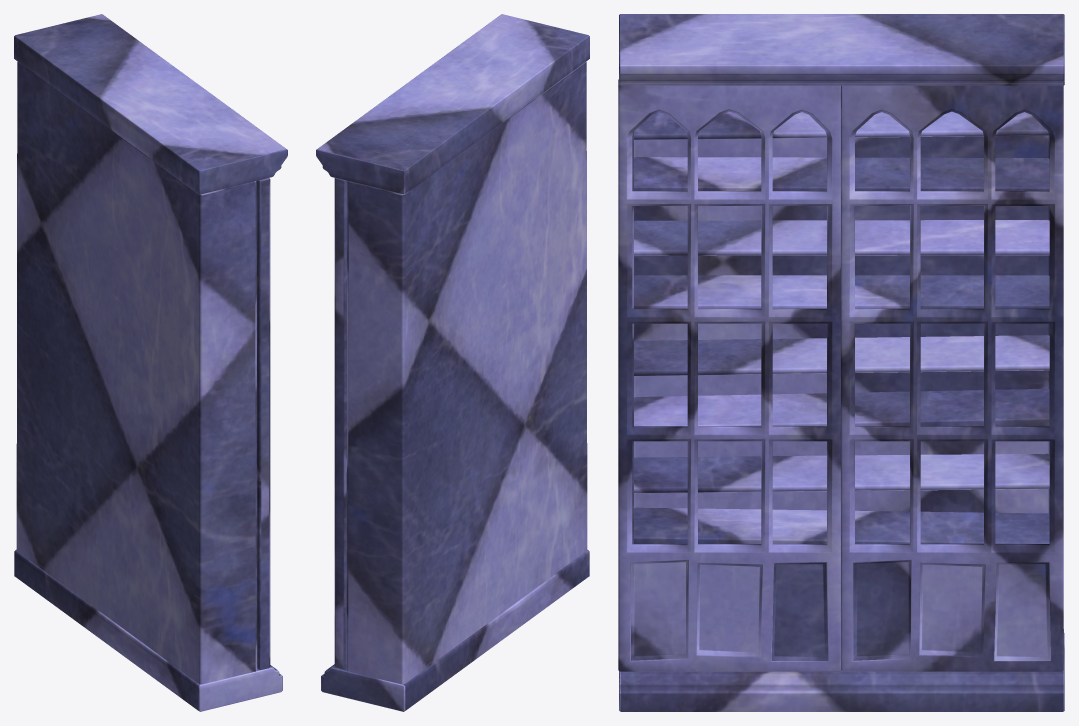
The model's file is hub_bookshelf.fbx.
3 renders of one model, left to right at view 1: azimuth 30°, elevation 25°; view 2: azimuth 150°, elevation 25°; view 3: azimuth 270°, elevation 25°, orthographic. The views are drawn at different scales.
Visible parts, largest first — view 1: library_shelf, libary_shelf_door_01; view 2: library_shelf, libary_shelf_door_02; view 3: library_shelf, libary_shelf_door_01, libary_shelf_door_02.
Part boxes in pixels (left/top/right/bottom): library_shelf: left=14, top=14, right=287, bottom=711; libary_shelf_door_01: left=256, top=178, right=270, bottom=670; library_shelf: left=316, top=14, right=589, bottom=711; libary_shelf_door_02: left=334, top=178, right=347, bottom=669; library_shelf: left=619, top=14, right=1064, bottom=711; libary_shelf_door_01: left=618, top=79, right=840, bottom=671; libary_shelf_door_02: left=841, top=85, right=1063, bottom=671.
Size of the model in its own units: 486 by 2827 by 1759.
